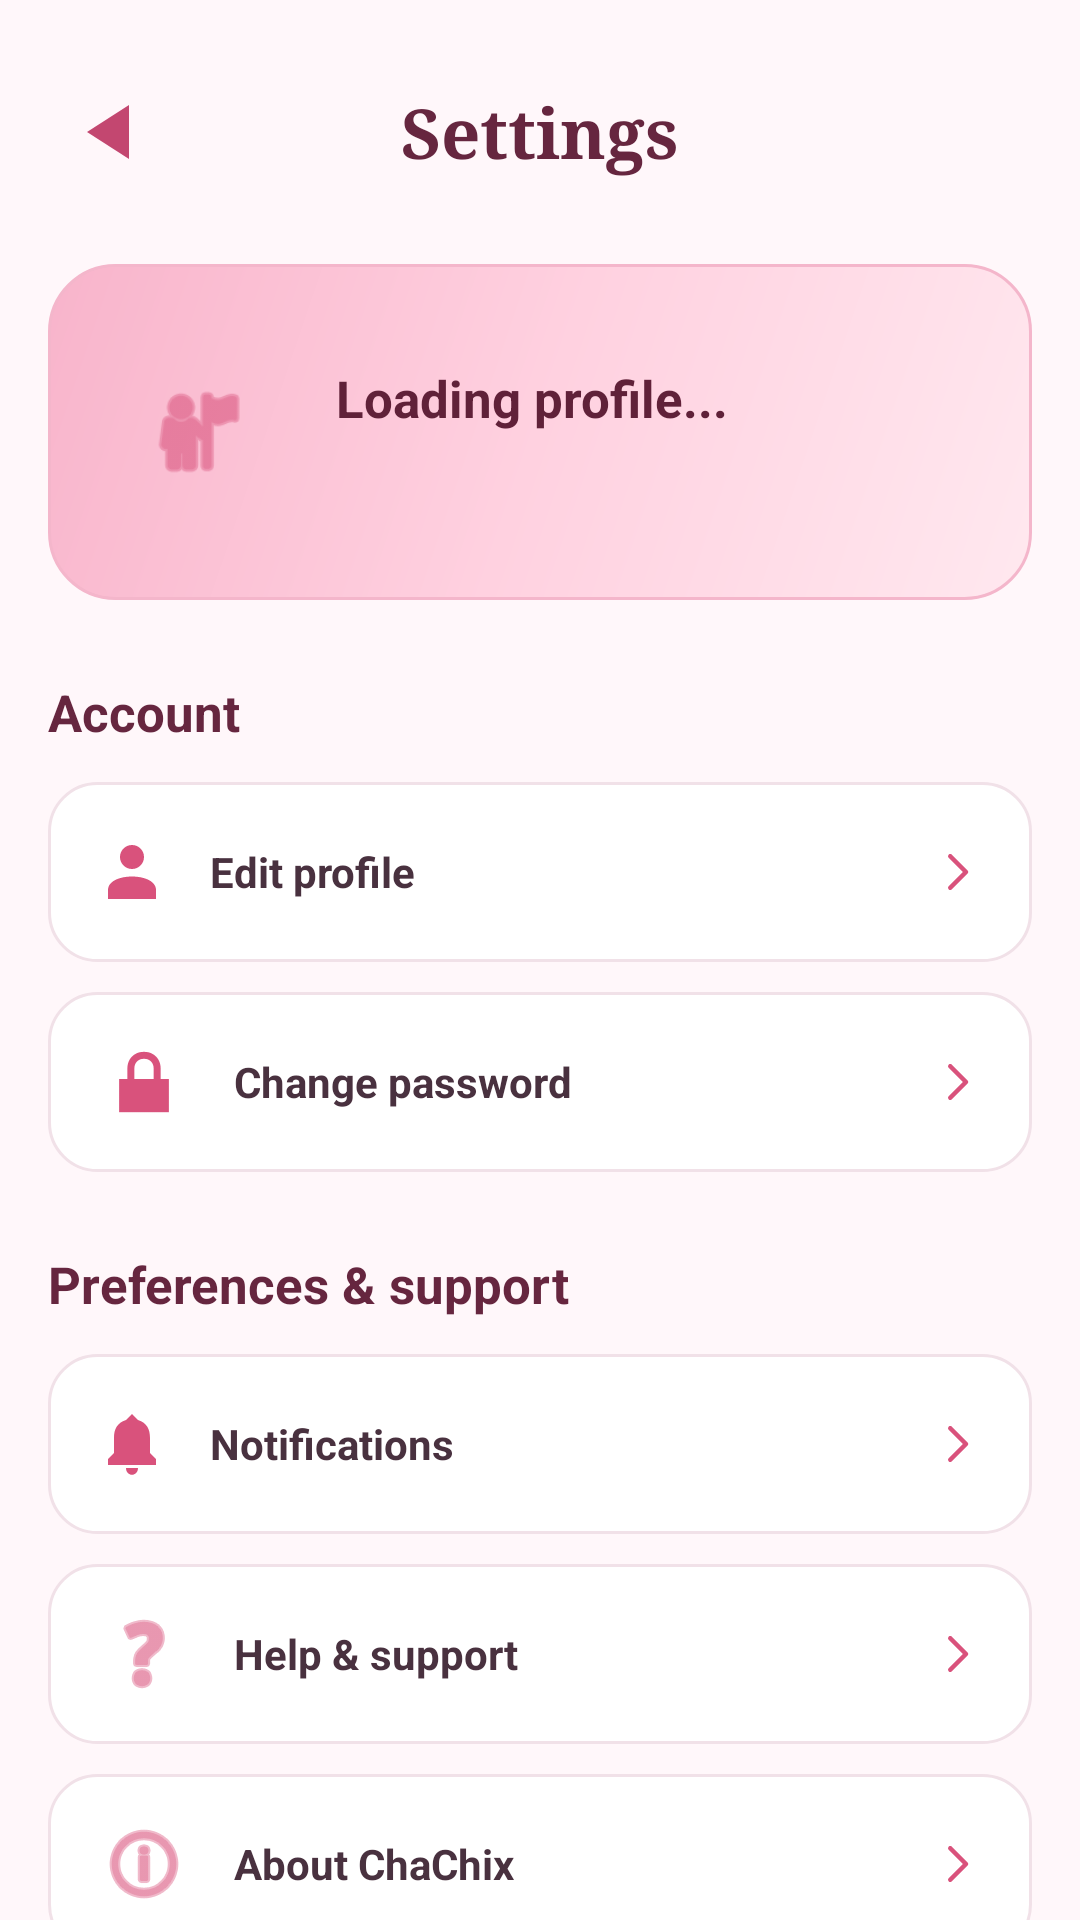

Screen size 1080x1920. Icon name, then its box in pixels as detection(x1, y1, x2, y2):
Go back: detection(87, 105, 129, 159)
